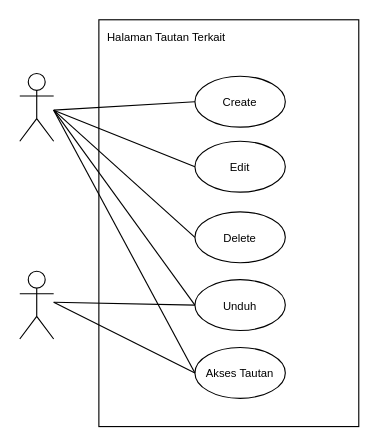
Some shapes in this 379 by 446 pixel diagram are drawn without their labels. Each missing label, with the centre of its shape:
Admin: (x=36, y=106)
Guest: (x=36, y=304)
